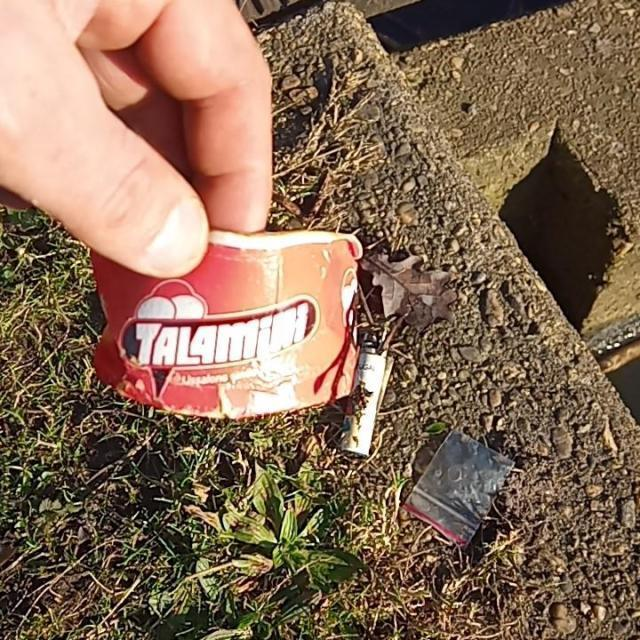Paper: (88, 224, 367, 421)
